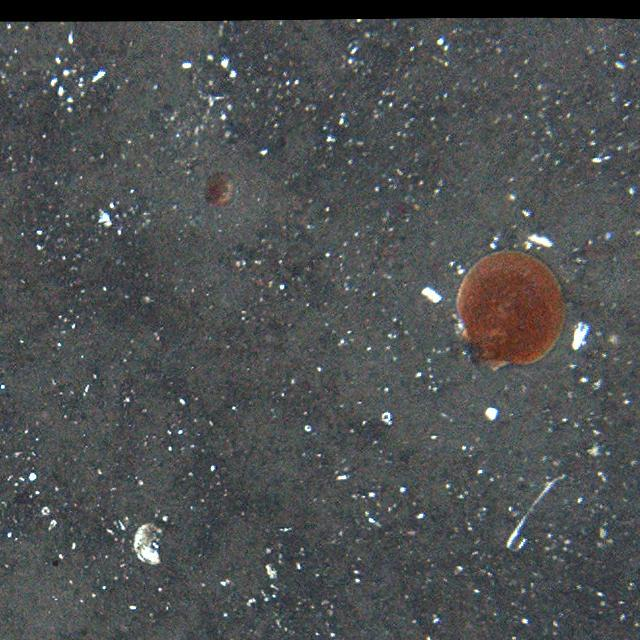scallop: (456, 251, 564, 367)
